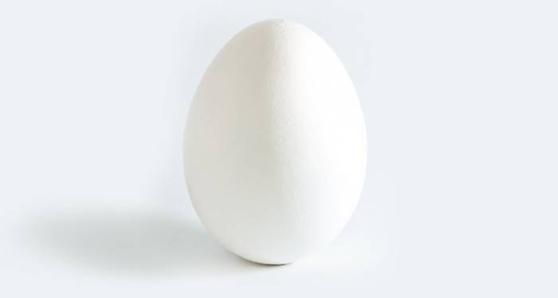egg: (190, 19, 369, 269)
